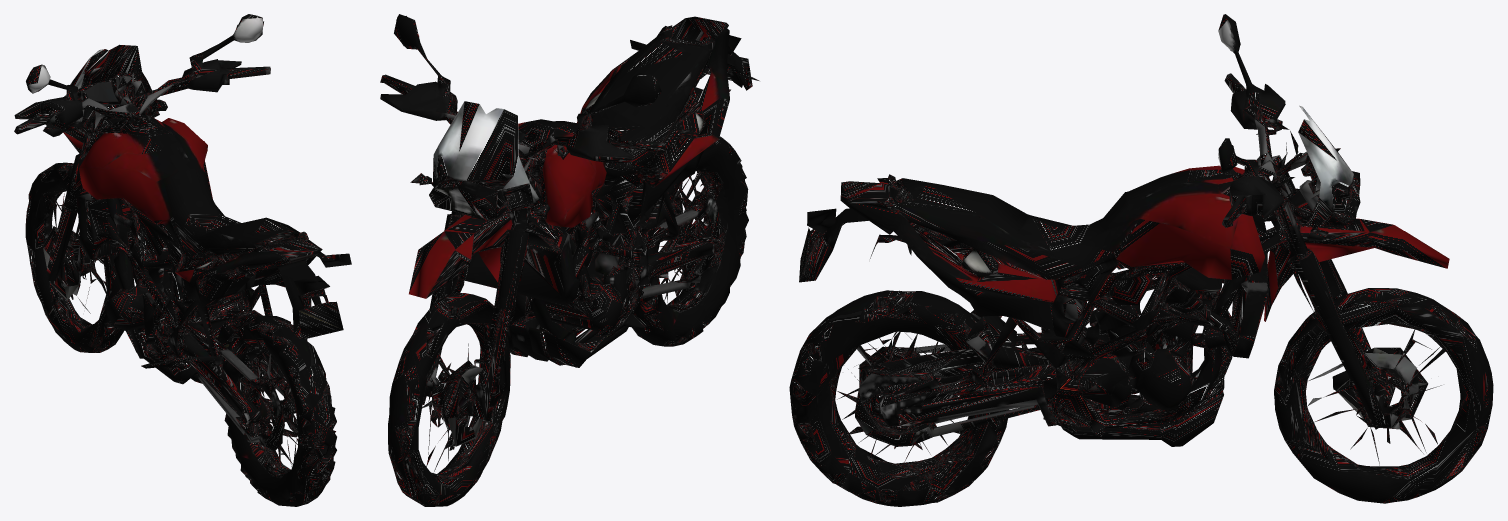
Rendered from moto-trail.glb.
The picture shows the model from 3 angles, left to right: view 1: azimuth 30°, elevation 25°; view 2: azimuth 150°, elevation 25°; view 3: azimuth 270°, elevation 25°; orthographic projection. The views are drawn at different scales.
Visible parts, largest first — view 1: corpo, rodaT, rodaD; view 2: corpo, rodaD, rodaT; view 3: corpo, rodaT, rodaD.
Boxes of the visible parts, x1,y1,x2,y2 form: corpo: [14, 14, 351, 424]; rodaT: [198, 286, 336, 506]; rodaD: [25, 162, 124, 352]; corpo: [380, 14, 759, 420]; rodaD: [388, 285, 510, 506]; rodaT: [632, 136, 748, 346]; corpo: [799, 14, 1449, 446]; rodaT: [789, 290, 1047, 506]; rodaD: [1274, 288, 1493, 503].
Size of the model in its own units: 1.09 by 1.48 by 2.21.
1 material, 1 textured.
